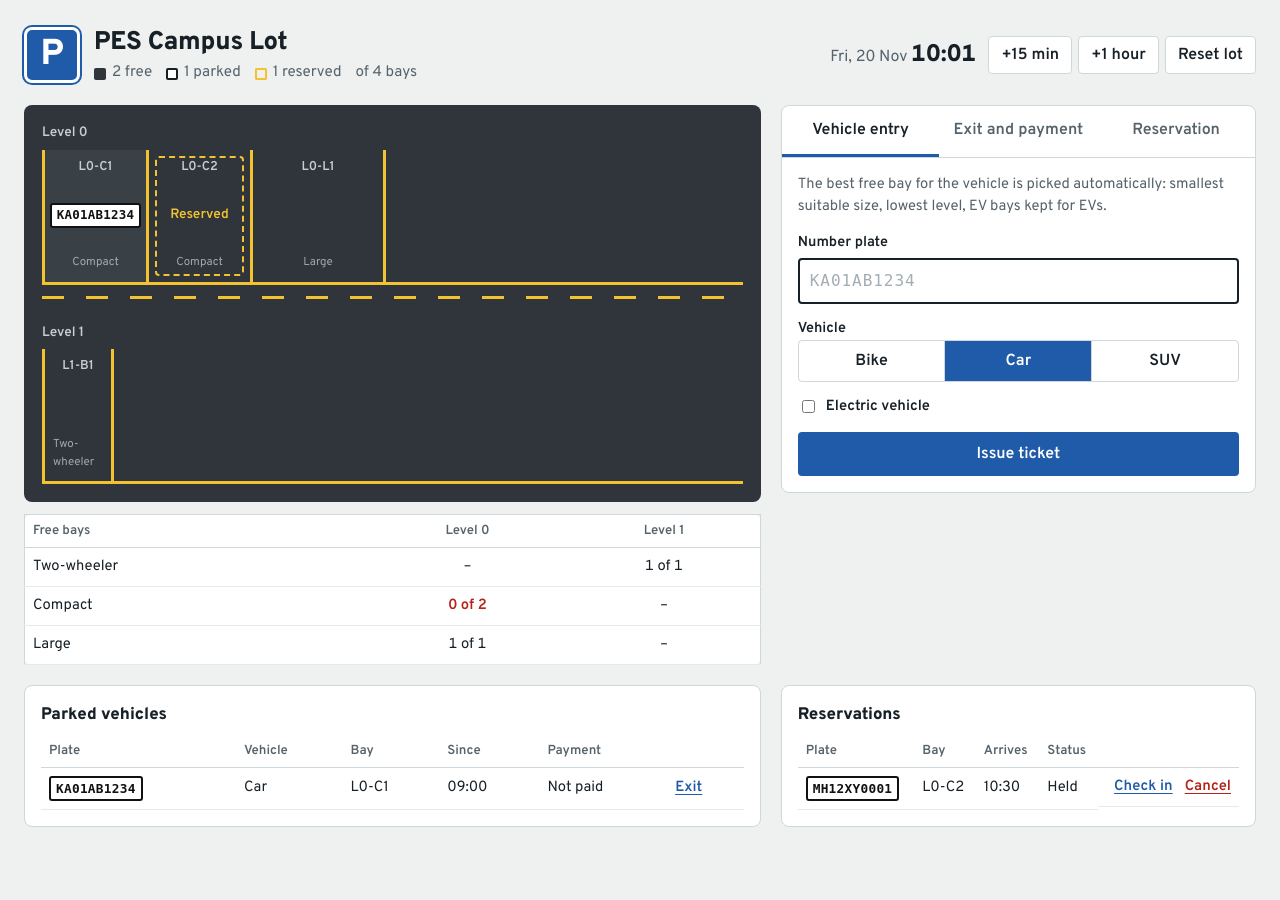
Test: App › issues a ticket from the entry form
The image size is (1280, 900).
Type "ka05mn4321" into the field labelled "Number plate" at (1018, 281), box [798,258,1239,304]
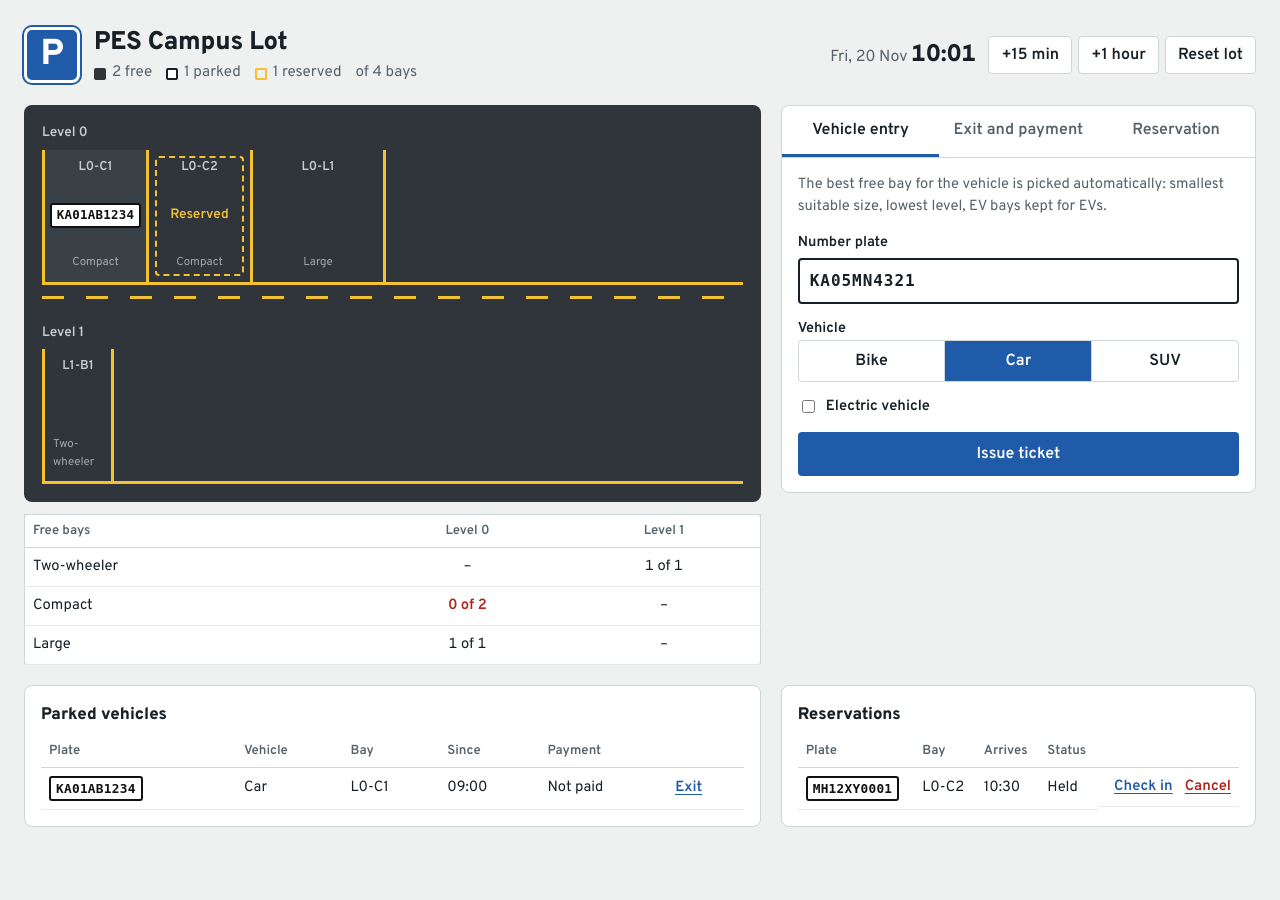
Click the radio button labelled "SUV" at (1165, 361), box [1091,341,1238,381]
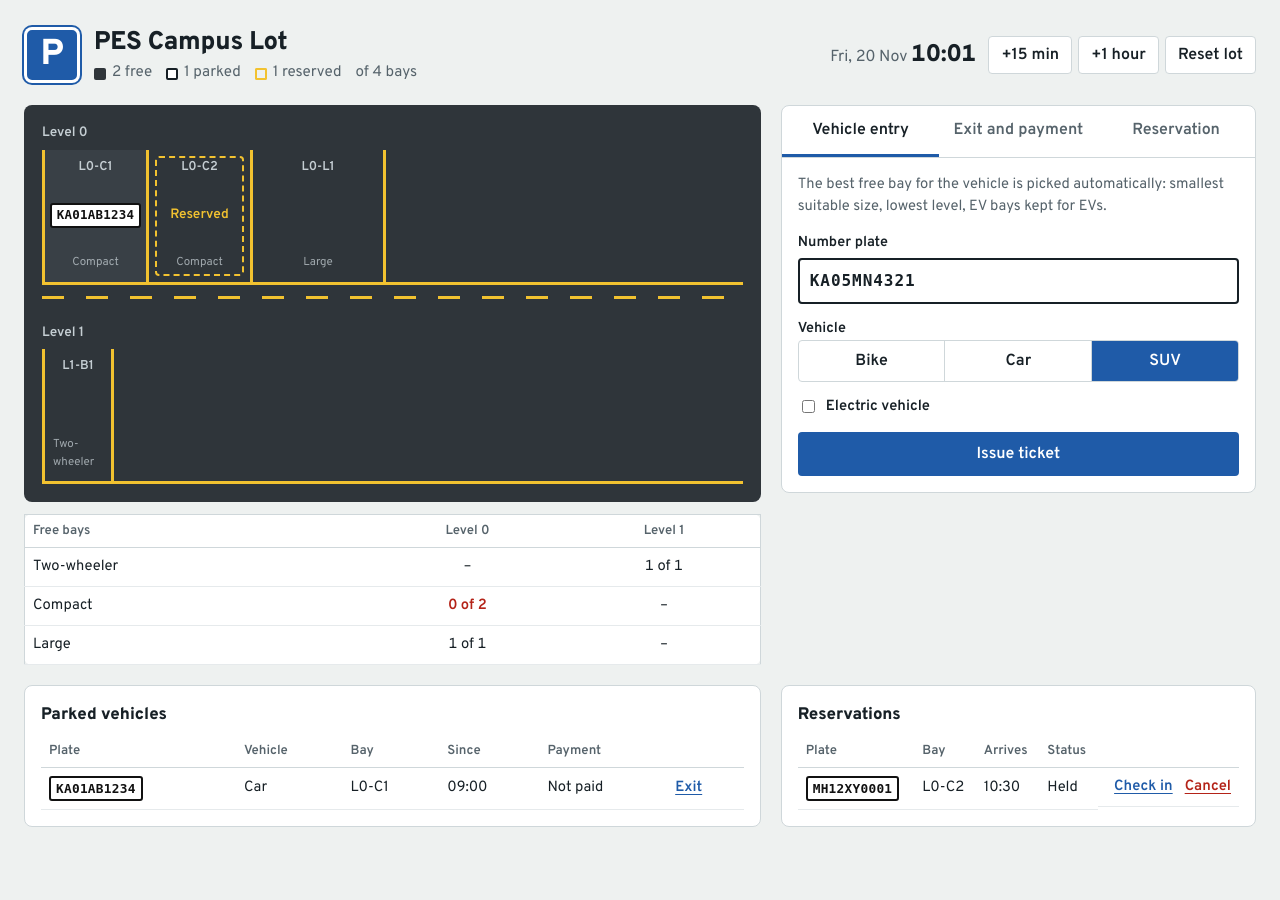
Click the button "Issue ticket" at (1018, 454), box [798,432,1239,476]
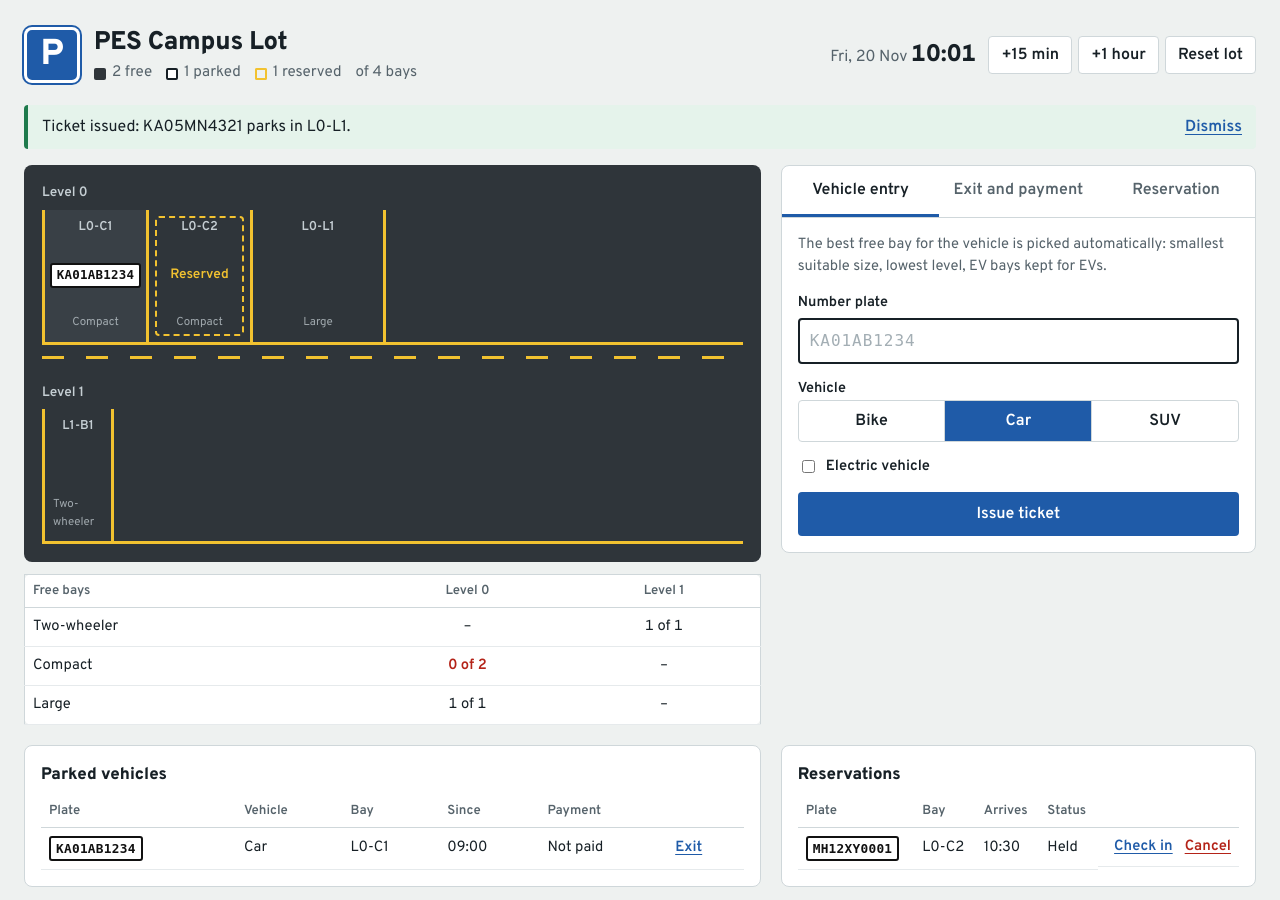
Check: the text "Ticket issued: KA05MN4321 parks in L0-L1." is shown, box [42,117,350,137]
